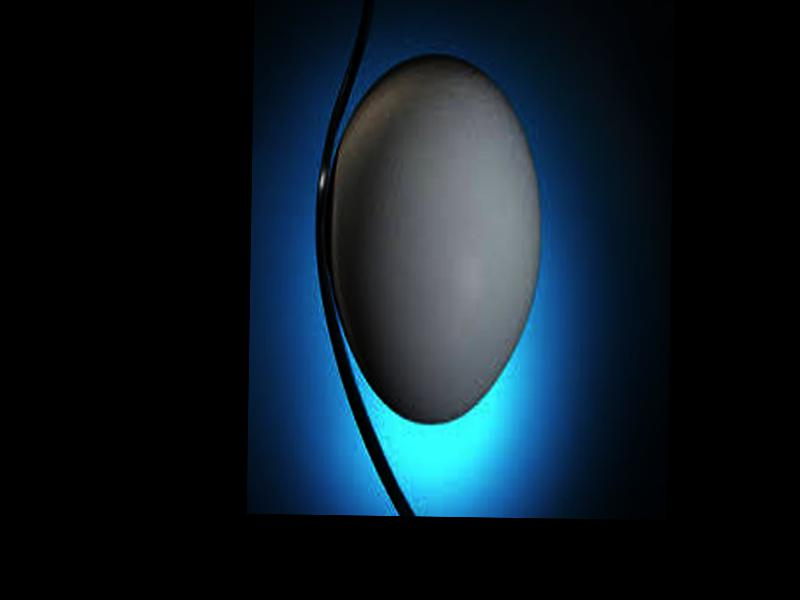Eggs: (326, 54, 540, 425)
